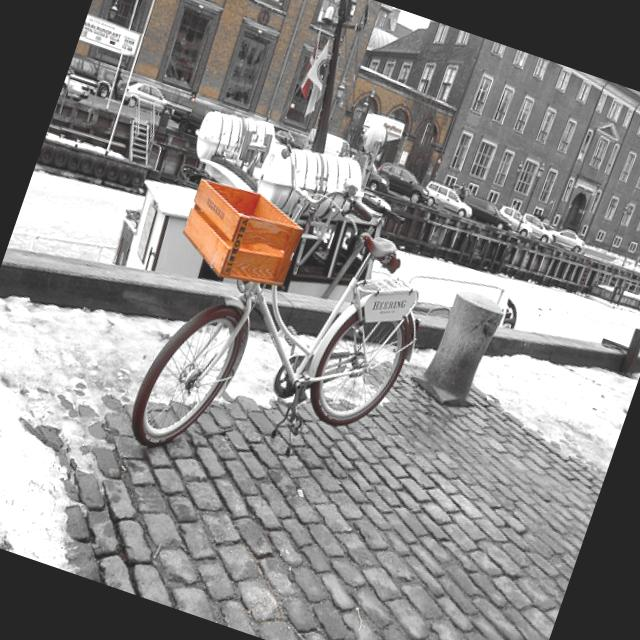Vehicle: (112, 74, 182, 122), (371, 156, 433, 208), (457, 190, 523, 233), (63, 51, 118, 99), (420, 180, 477, 221), (58, 63, 98, 109), (492, 202, 538, 240), (543, 223, 586, 255), (518, 212, 558, 244), (364, 162, 394, 194)
